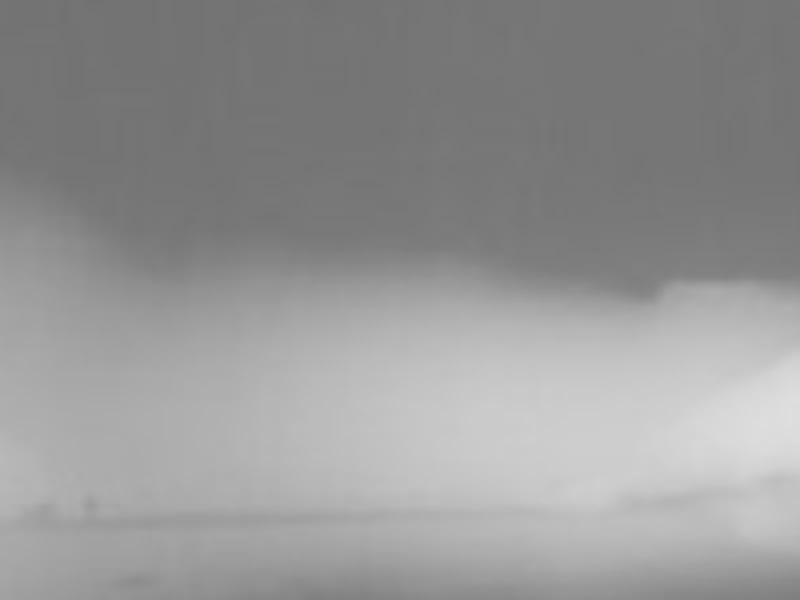defect: (80, 493, 100, 510)
